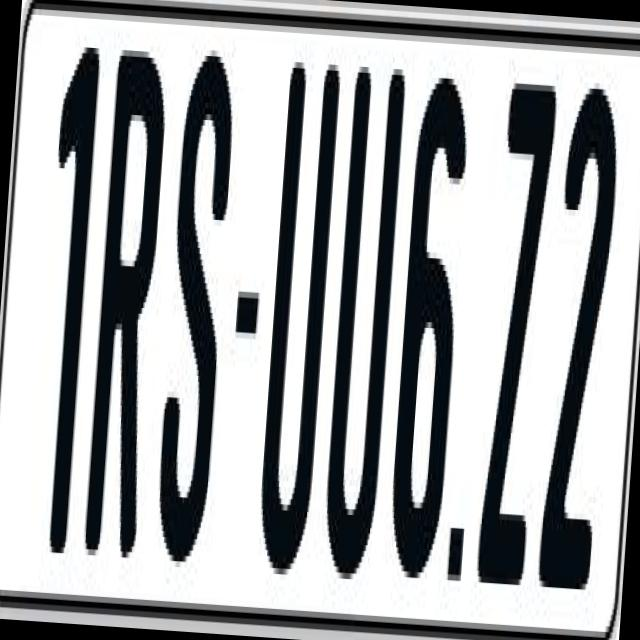1: (31, 46, 108, 554)
2: (532, 86, 626, 618)
6: (380, 76, 472, 614)
R: (81, 32, 176, 564)
S: (152, 49, 242, 586)
U: (316, 66, 408, 615), (251, 56, 341, 582)
Z: (471, 70, 562, 602)
